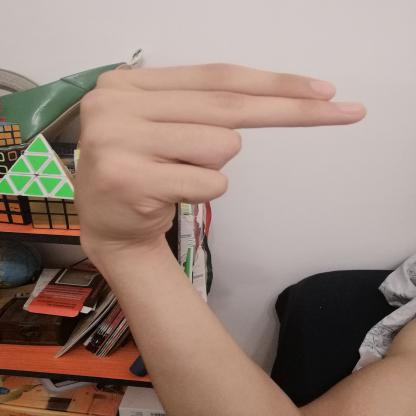AYN: (54, 53, 388, 252)
